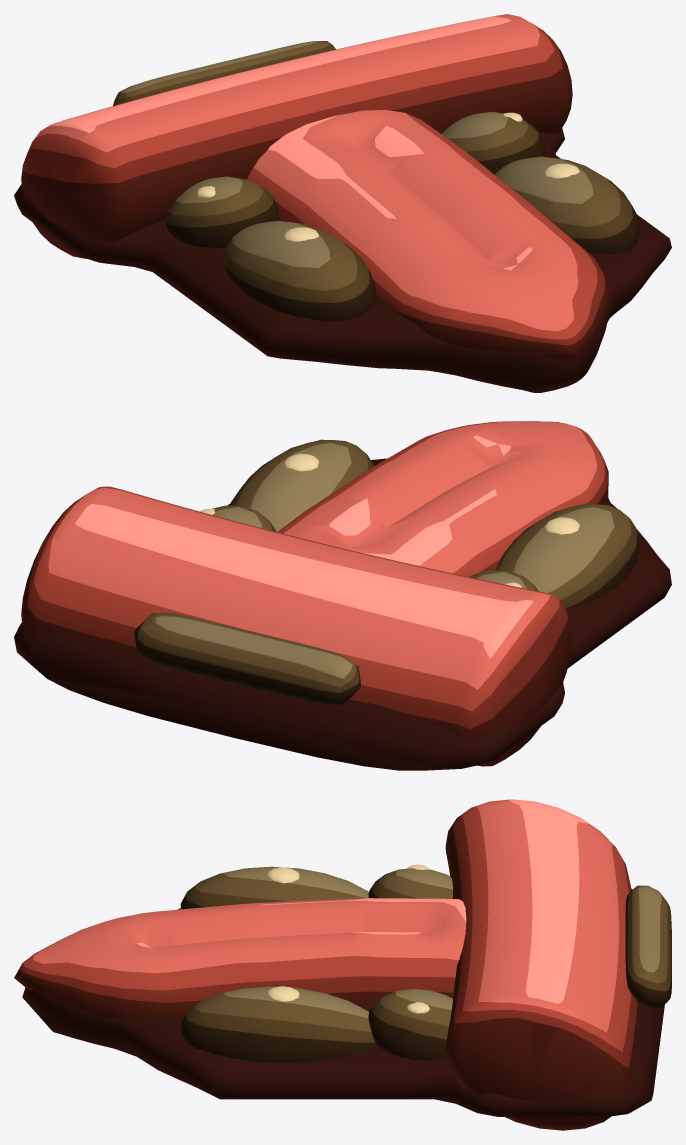
The model's file is red_keel_shell.glb.
3 renders of one model, top to bottom at view 1: azimuth 30°, elevation 25°; view 2: azimuth 150°, elevation 25°; view 3: azimuth 270°, elevation 25°, orthographic. The views are drawn at different scales.
Parts seen in each view (by area): view 1: red_keel_shell; view 2: red_keel_shell; view 3: red_keel_shell.
Boxes of the visible parts, x1,y1,x2,y2 form: red_keel_shell: [14, 14, 671, 392]; red_keel_shell: [14, 421, 671, 770]; red_keel_shell: [14, 799, 671, 1130].
Bounding box in the file's own units: 22.34 × 6 × 27.61.
